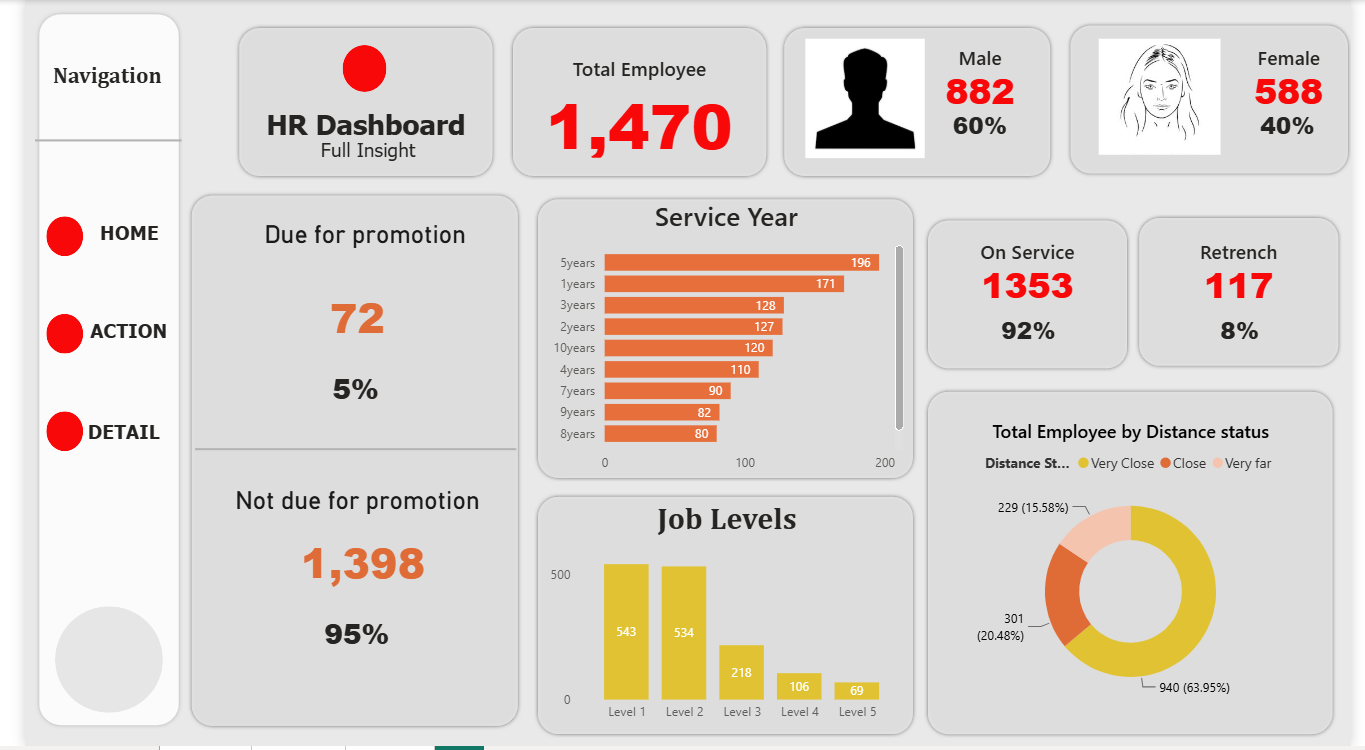

Layout of this report page (visuals, bound fields, positions):
{"tool":"powerbi","page":{"name":"Home","canvas":[1280,720],"ordinal":0},"visuals":[{"type":"shape","box":[203.1,23.3,252.5,150.9],"z":0},{"type":"shape","box":[306,43.9,42.5,45.3],"z":1000},{"type":"textbox","box":[218.2,98.8,220.9,52.1],"z":2000},{"type":"textbox","box":[220.9,127.6,220.9,39.8],"z":3000},{"type":"shape","box":[466.6,23.3,252.5,150.9],"z":4000},{"type":"card","title":"Total Employee","fields":{"Values":["Table.all employees"]},"box":[466.6,43.9,252.5,113.9],"z":5000},{"type":"shape","box":[157.1,184.3,322.9,520],"z":6000},{"type":"shape","box":[164.3,427.1,310,12.9],"z":7000},{"type":"shape","box":[728.6,23.3,264.8,150.9],"z":8000},{"type":"card","title":"Male","fields":{"Values":["Table.Gender Male"]},"box":[861.8,32.9,120.8,75.5],"z":9000},{"type":"shape","box":[1004.5,20.6,275.8,150.9],"z":10000},{"type":"card","title":"Male","fields":{"Values":["Table.Male Percentage"]},"box":[874.1,96.1,94.7,45.3],"z":11000},{"type":"image","box":[746.5,32.9,127.6,124.9],"z":12000},{"type":"card","title":"Female","fields":{"Values":["Table.Gender Female"]},"box":[1159.5,32.9,120.8,75.5],"z":13000},{"type":"card","title":"Male","fields":{"Values":["Table.Female Percentage"]},"box":[1171.9,96.1,94.7,45.3],"z":14000},{"type":"image","box":[1031.9,32.9,127.6,122.1],"z":15000},{"type":"shape","box":[491.4,475.7,370,237.1],"z":16000},{"type":"clusteredColumnChart","title":"Job Levels","fields":{"Y":["Table.all employees"],"Category":["HR Analytics Data.JobLevel"]},"box":[501.4,482.9,351.4,222.9],"z":17000},{"type":"card","title":"Due for Promotion","fields":{"Values":["Table.Due for Promotion"]},"box":[227.5,267.5,186.2,75],"z":18000},{"type":"card","title":"Due for Promotion","fields":{"Values":["Table.Not Due for Promotion"]},"box":[232.5,503.8,187.5,75],"z":19000},{"type":"card","title":"Male","fields":{"Values":["Table.& Due"]},"box":[271.2,350,95,46.2],"z":20000},{"type":"card","title":"Male","fields":{"Values":["Table.% Not Due"]},"box":[272.5,586.2,95,46.2],"z":21000},{"type":"shape","box":[10,10,142.9,694.3],"z":22000},{"type":"textbox","box":[2.9,55.7,154.3,67.1],"z":23000},{"type":"shape","box":[10,128.6,141.4,12.9],"z":24000},{"type":"shape","box":[21,397.1,35.7,38.6],"z":25000},{"type":"textbox","box":[49.3,208.6,102.9,40],"z":26000},{"type":"textbox","box":[41,302.9,118.6,40],"z":27000},{"type":"textbox","box":[38.6,400.5,113.4,38.6],"z":28000},{"type":"shape","box":[21,302.9,35.7,38.6],"z":29000},{"type":"shape","box":[20.7,208.2,35.7,38.6],"z":30000},{"type":"shape","box":[28.6,585.7,104.3,102.9],"z":31000},{"type":"shape","box":[867.1,374.3,398.6,338.6],"z":32000},{"type":"donutChart","title":"Total Employee by Distance status","fields":{"Category":["HR Analytics Data.test distance"],"Y":["CountNonNull(HR Analytics Data.DistanceFromHome)"]},"box":[884.3,404.3,365.7,281.4],"z":33000},{"type":"shape","box":[491.4,188.6,370,277.1],"z":34000},{"type":"textbox","box":[200,207.5,256.2,60],"z":36000},{"type":"textbox","box":[170,465,301.2,60],"z":37000},{"type":"shape","box":[867.4,208.7,200.3,150.8],"z":38000},{"type":"shape","box":[1071.3,206.3,200.3,150.8],"z":39000},{"type":"card","title":"On Service","fields":{"Values":["All measure.On Service"]},"box":[907.2,219.6,120.6,74.8],"z":40000},{"type":"card","title":"Male","fields":{"Values":["All measure.% On Service"]},"box":[921.7,294.4,94.1,44.6],"z":41000},{"type":"card","title":"Retrench","fields":{"Values":["All measure.Retrench"]},"box":[1111.1,219.6,120.6,74.8],"z":42000},{"type":"card","title":"Male","fields":{"Values":["All measure.% Retrench"]},"box":[1125.6,294.4,94.1,44.6],"z":43000},{"type":"clusteredBarChart","title":"Service Year","fields":{"Category":["HR Analytics Data.Service Year"],"Y":["CountNonNull(HR Analytics Data.Service Year)"]},"box":[500.7,190.6,352.3,273.9],"z":44000}]}

Visuals, with their boxes in screenshot pixels (x1, y1, x2, y2), scaled from the page's 1280x720 canvas onto the 1365x750 screenshot:
shape: {"x1": 217, "y1": 24, "x2": 486, "y2": 181}
shape: {"x1": 326, "y1": 46, "x2": 372, "y2": 93}
textbox: {"x1": 233, "y1": 103, "x2": 468, "y2": 157}
textbox: {"x1": 236, "y1": 133, "x2": 471, "y2": 174}
shape: {"x1": 498, "y1": 24, "x2": 767, "y2": 181}
"Total Employee" card: {"x1": 498, "y1": 46, "x2": 767, "y2": 164}
shape: {"x1": 168, "y1": 192, "x2": 512, "y2": 734}
shape: {"x1": 175, "y1": 445, "x2": 506, "y2": 458}
shape: {"x1": 777, "y1": 24, "x2": 1059, "y2": 181}
"Male" card: {"x1": 919, "y1": 34, "x2": 1048, "y2": 113}
shape: {"x1": 1071, "y1": 21, "x2": 1364, "y2": 179}
"Male" card: {"x1": 932, "y1": 100, "x2": 1033, "y2": 147}
image: {"x1": 796, "y1": 34, "x2": 932, "y2": 164}
"Female" card: {"x1": 1236, "y1": 34, "x2": 1364, "y2": 113}
"Male" card: {"x1": 1250, "y1": 100, "x2": 1351, "y2": 147}
image: {"x1": 1100, "y1": 34, "x2": 1236, "y2": 161}
shape: {"x1": 524, "y1": 496, "x2": 919, "y2": 742}
"Job Levels" clusteredColumnChart: {"x1": 535, "y1": 503, "x2": 909, "y2": 735}
"Due for Promotion" card: {"x1": 243, "y1": 279, "x2": 441, "y2": 357}
"Due for Promotion" card: {"x1": 248, "y1": 525, "x2": 448, "y2": 603}
"Male" card: {"x1": 289, "y1": 365, "x2": 391, "y2": 413}
"Male" card: {"x1": 291, "y1": 611, "x2": 392, "y2": 659}
shape: {"x1": 11, "y1": 10, "x2": 163, "y2": 734}
textbox: {"x1": 3, "y1": 58, "x2": 168, "y2": 128}
shape: {"x1": 11, "y1": 134, "x2": 161, "y2": 147}
shape: {"x1": 22, "y1": 414, "x2": 60, "y2": 454}
textbox: {"x1": 53, "y1": 217, "x2": 162, "y2": 259}
textbox: {"x1": 44, "y1": 316, "x2": 170, "y2": 357}
textbox: {"x1": 41, "y1": 417, "x2": 162, "y2": 457}
shape: {"x1": 22, "y1": 316, "x2": 60, "y2": 356}
shape: {"x1": 22, "y1": 217, "x2": 60, "y2": 257}
shape: {"x1": 30, "y1": 610, "x2": 142, "y2": 717}
shape: {"x1": 925, "y1": 390, "x2": 1350, "y2": 743}
"Total Employee by Distance status" donutChart: {"x1": 943, "y1": 421, "x2": 1333, "y2": 714}
shape: {"x1": 524, "y1": 196, "x2": 919, "y2": 485}
textbox: {"x1": 213, "y1": 216, "x2": 486, "y2": 279}
textbox: {"x1": 181, "y1": 484, "x2": 502, "y2": 547}
shape: {"x1": 925, "y1": 217, "x2": 1139, "y2": 374}
shape: {"x1": 1142, "y1": 215, "x2": 1356, "y2": 372}
"On Service" card: {"x1": 967, "y1": 229, "x2": 1096, "y2": 307}
"Male" card: {"x1": 983, "y1": 307, "x2": 1083, "y2": 353}
"Retrench" card: {"x1": 1185, "y1": 229, "x2": 1313, "y2": 307}
"Male" card: {"x1": 1200, "y1": 307, "x2": 1301, "y2": 353}
"Service Year" clusteredBarChart: {"x1": 534, "y1": 199, "x2": 910, "y2": 484}
